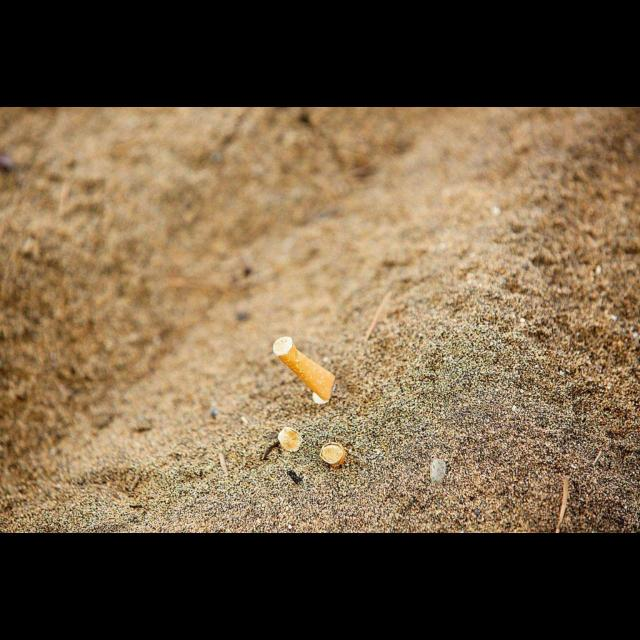cigarette: (273, 338, 335, 404), (320, 443, 346, 468), (278, 428, 302, 451)
